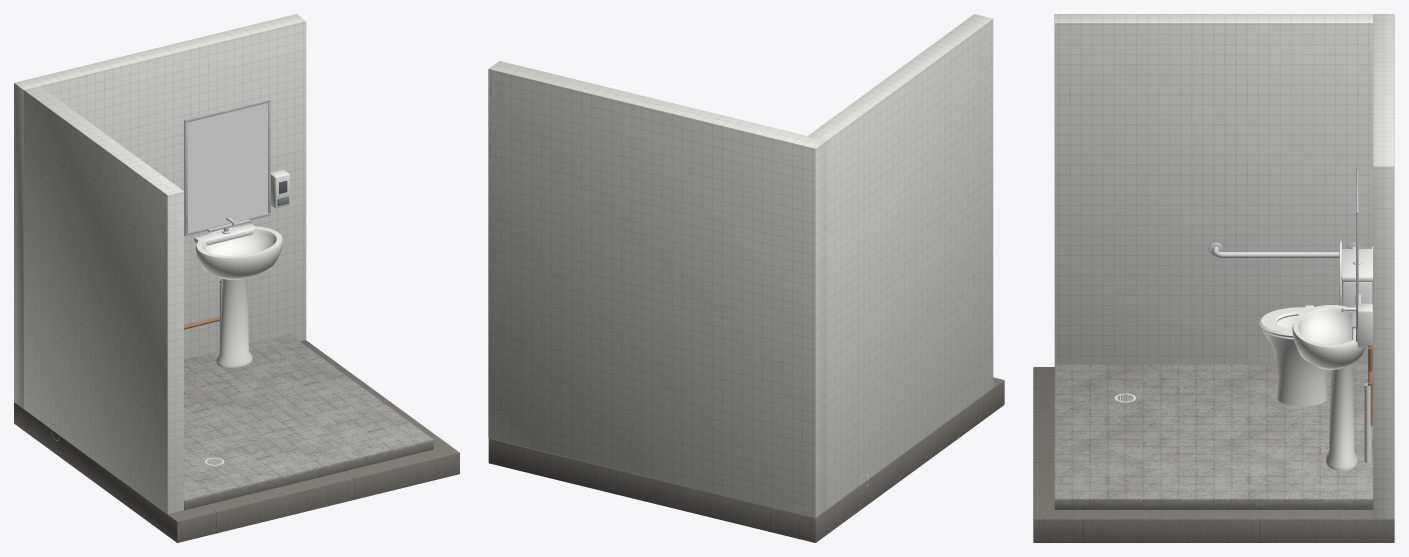
The model's file is KIT-HID-02.glb.
The picture shows the model from 3 angles, left to right: view 1: azimuth 30°, elevation 25°; view 2: azimuth 150°, elevation 25°; view 3: azimuth 270°, elevation 25°; orthographic projection. The views are drawn at different scales.
Parts seen in each view (by area): view 1: KIT-HID-02_parede_lado, KIT-HID-02_parede_fundo, KIT-HID-02_piso, KIT-HID-02_laje, KIT-HID-02_p3, KIT-HID-02_p2, KIT-HID-02_contrapiso, KIT-HID-02_p4; view 2: KIT-HID-02_parede_fundo, KIT-HID-02_parede_lado, KIT-HID-02_laje; view 3: KIT-HID-02_parede_lado, KIT-HID-02_piso, KIT-HID-02_laje, KIT-HID-02_parede_fundo, KIT-HID-02_p2, KIT-HID-02_p1, KIT-HID-02_contrapiso, KIT-HID-02_p6, KIT-HID-02_p4, KIT-HID-02_esg40_sobe, KIT-HID-02_p3.
Boxes of the visible parts, box(x1,y1,x2,y2) form: KIT-HID-02_parede_lado: box(23, 86, 183, 514); KIT-HID-02_parede_fundo: box(14, 14, 306, 408); KIT-HID-02_piso: box(184, 334, 433, 502); KIT-HID-02_laje: box(14, 340, 459, 542); KIT-HID-02_p3: box(184, 98, 270, 236); KIT-HID-02_p2: box(194, 217, 282, 367); KIT-HID-02_contrapiso: box(184, 442, 433, 510); KIT-HID-02_p4: box(271, 169, 289, 208); KIT-HID-02_parede_fundo: box(488, 61, 826, 517); KIT-HID-02_parede_lado: box(808, 14, 993, 509); KIT-HID-02_laje: box(488, 377, 1004, 542); KIT-HID-02_parede_lado: box(1054, 14, 1373, 364); KIT-HID-02_piso: box(1054, 364, 1373, 501); KIT-HID-02_laje: box(1033, 367, 1394, 542); KIT-HID-02_parede_fundo: box(1373, 14, 1394, 518); KIT-HID-02_p2: box(1292, 305, 1367, 470); KIT-HID-02_p1: box(1258, 240, 1373, 406); KIT-HID-02_contrapiso: box(1054, 502, 1373, 509); KIT-HID-02_p6: box(1208, 242, 1360, 257); KIT-HID-02_p4: box(1356, 303, 1373, 345); KIT-HID-02_esg40_sobe: box(1364, 383, 1371, 462); KIT-HID-02_p3: box(1352, 166, 1373, 328).
Bounding box in the file's own units: 2.04 × 2.35 × 2.04.
14 materials, 4 textured.
